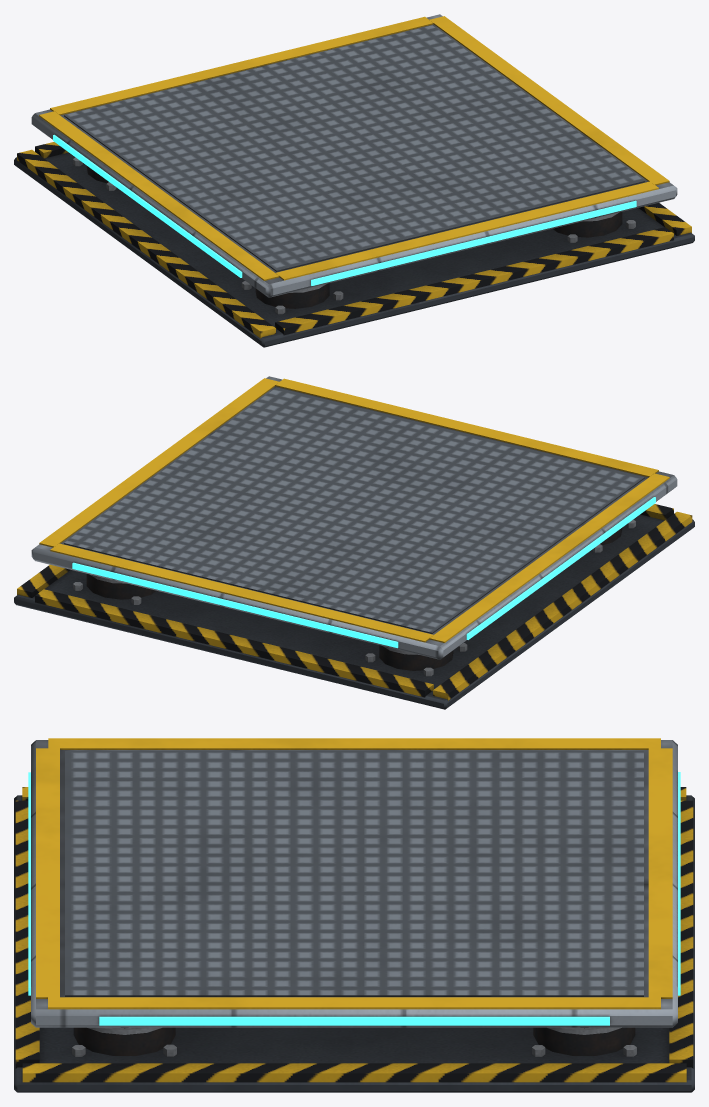
Rendered from plataforma_elevacion.fbx.
3 renders of one model, top to bottom at view 1: azimuth 30°, elevation 25°; view 2: azimuth 150°, elevation 25°; view 3: azimuth 270°, elevation 25°, orthographic. The views are drawn at different scales.
Parts seen in each view (by area): view 1: plataforma_elevacion_tablero, plataforma_elevacion, plataforma_elevacion_neon; view 2: plataforma_elevacion_tablero, plataforma_elevacion, plataforma_elevacion_neon; view 3: plataforma_elevacion_tablero, plataforma_elevacion, plataforma_elevacion_neon.
Boxes of the visible parts, box(x1,y1,x2,y2) form: plataforma_elevacion_tablero: box(31, 14, 677, 297); plataforma_elevacion: box(14, 142, 694, 347); plataforma_elevacion_neon: box(53, 134, 636, 285); plataforma_elevacion_tablero: box(31, 376, 677, 659); plataforma_elevacion: box(14, 504, 694, 709); plataforma_elevacion_neon: box(72, 497, 655, 648); plataforma_elevacion_tablero: box(31, 738, 677, 1027); plataforma_elevacion: box(14, 787, 694, 1092); plataforma_elevacion_neon: box(28, 772, 680, 1025).
Size of the model in its own units: 4 by 0.5012 by 4.
Materials: 2 (2 with a texture image).
